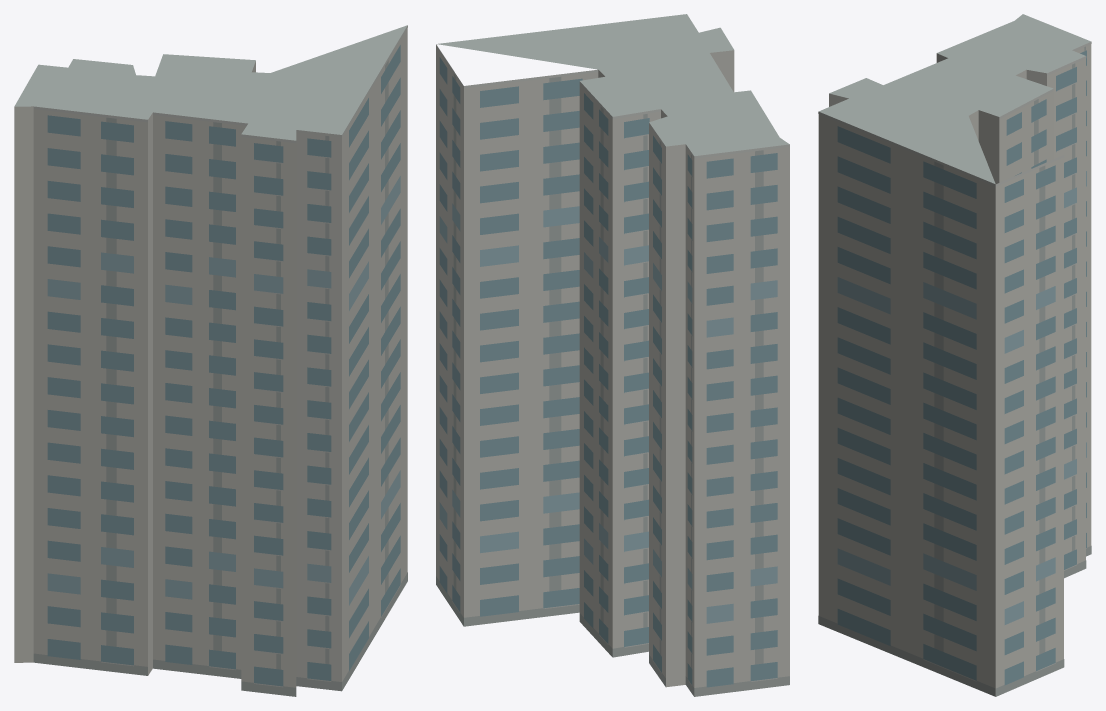
File: residential-22b0eb9c-cde6-4c76-9a98-857c5958bdb6.glb
3 renders of one model, left to right at view 1: azimuth 30°, elevation 25°; view 2: azimuth 150°, elevation 25°; view 3: azimuth 270°, elevation 25°, orthographic. The views are drawn at different scales.
Visible parts, largest first — view 1: residential-22b0eb9c-cde6-4c76-9a98-857c5958bdb6.tmp; view 2: residential-22b0eb9c-cde6-4c76-9a98-857c5958bdb6.tmp; view 3: residential-22b0eb9c-cde6-4c76-9a98-857c5958bdb6.tmp.
Boxes of the visible parts, x1,y1,x2,y2 form: residential-22b0eb9c-cde6-4c76-9a98-857c5958bdb6.tmp: [14, 25, 407, 696]; residential-22b0eb9c-cde6-4c76-9a98-857c5958bdb6.tmp: [436, 14, 789, 696]; residential-22b0eb9c-cde6-4c76-9a98-857c5958bdb6.tmp: [818, 14, 1091, 696].
Bounding box in the file's own units: 36.97 × 51.85 × 25.03.
